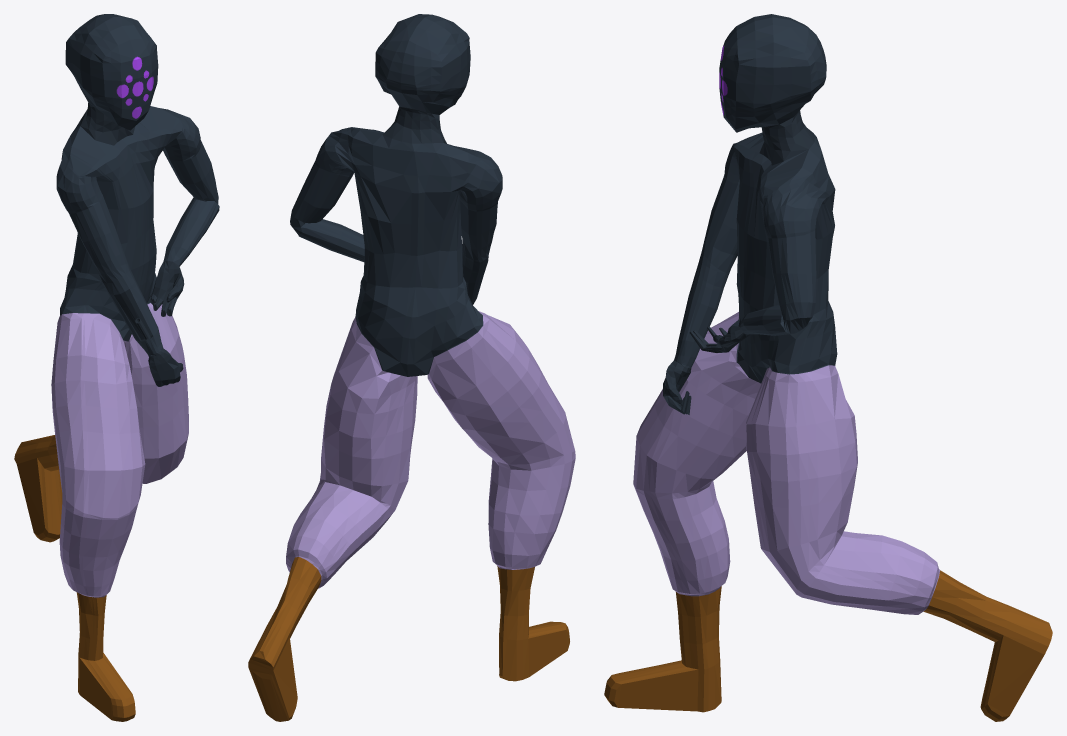
The model's file is Oracle_Run_000016.obj.
The picture shows the model from 3 angles, left to right: view 1: azimuth 30°, elevation 25°; view 2: azimuth 150°, elevation 25°; view 3: azimuth 270°, elevation 25°; orthographic projection. The views are drawn at different scales.
Parts seen in each view (by area): view 1: Cube; view 2: Cube; view 3: Cube.
Part boxes in pixels (bbox=[...]): Cube: bbox=[14, 14, 219, 721]; Cube: bbox=[248, 14, 575, 721]; Cube: bbox=[604, 14, 1052, 721].
Bounding box in the file's own units: 1.28 × 3.74 × 2.12.
